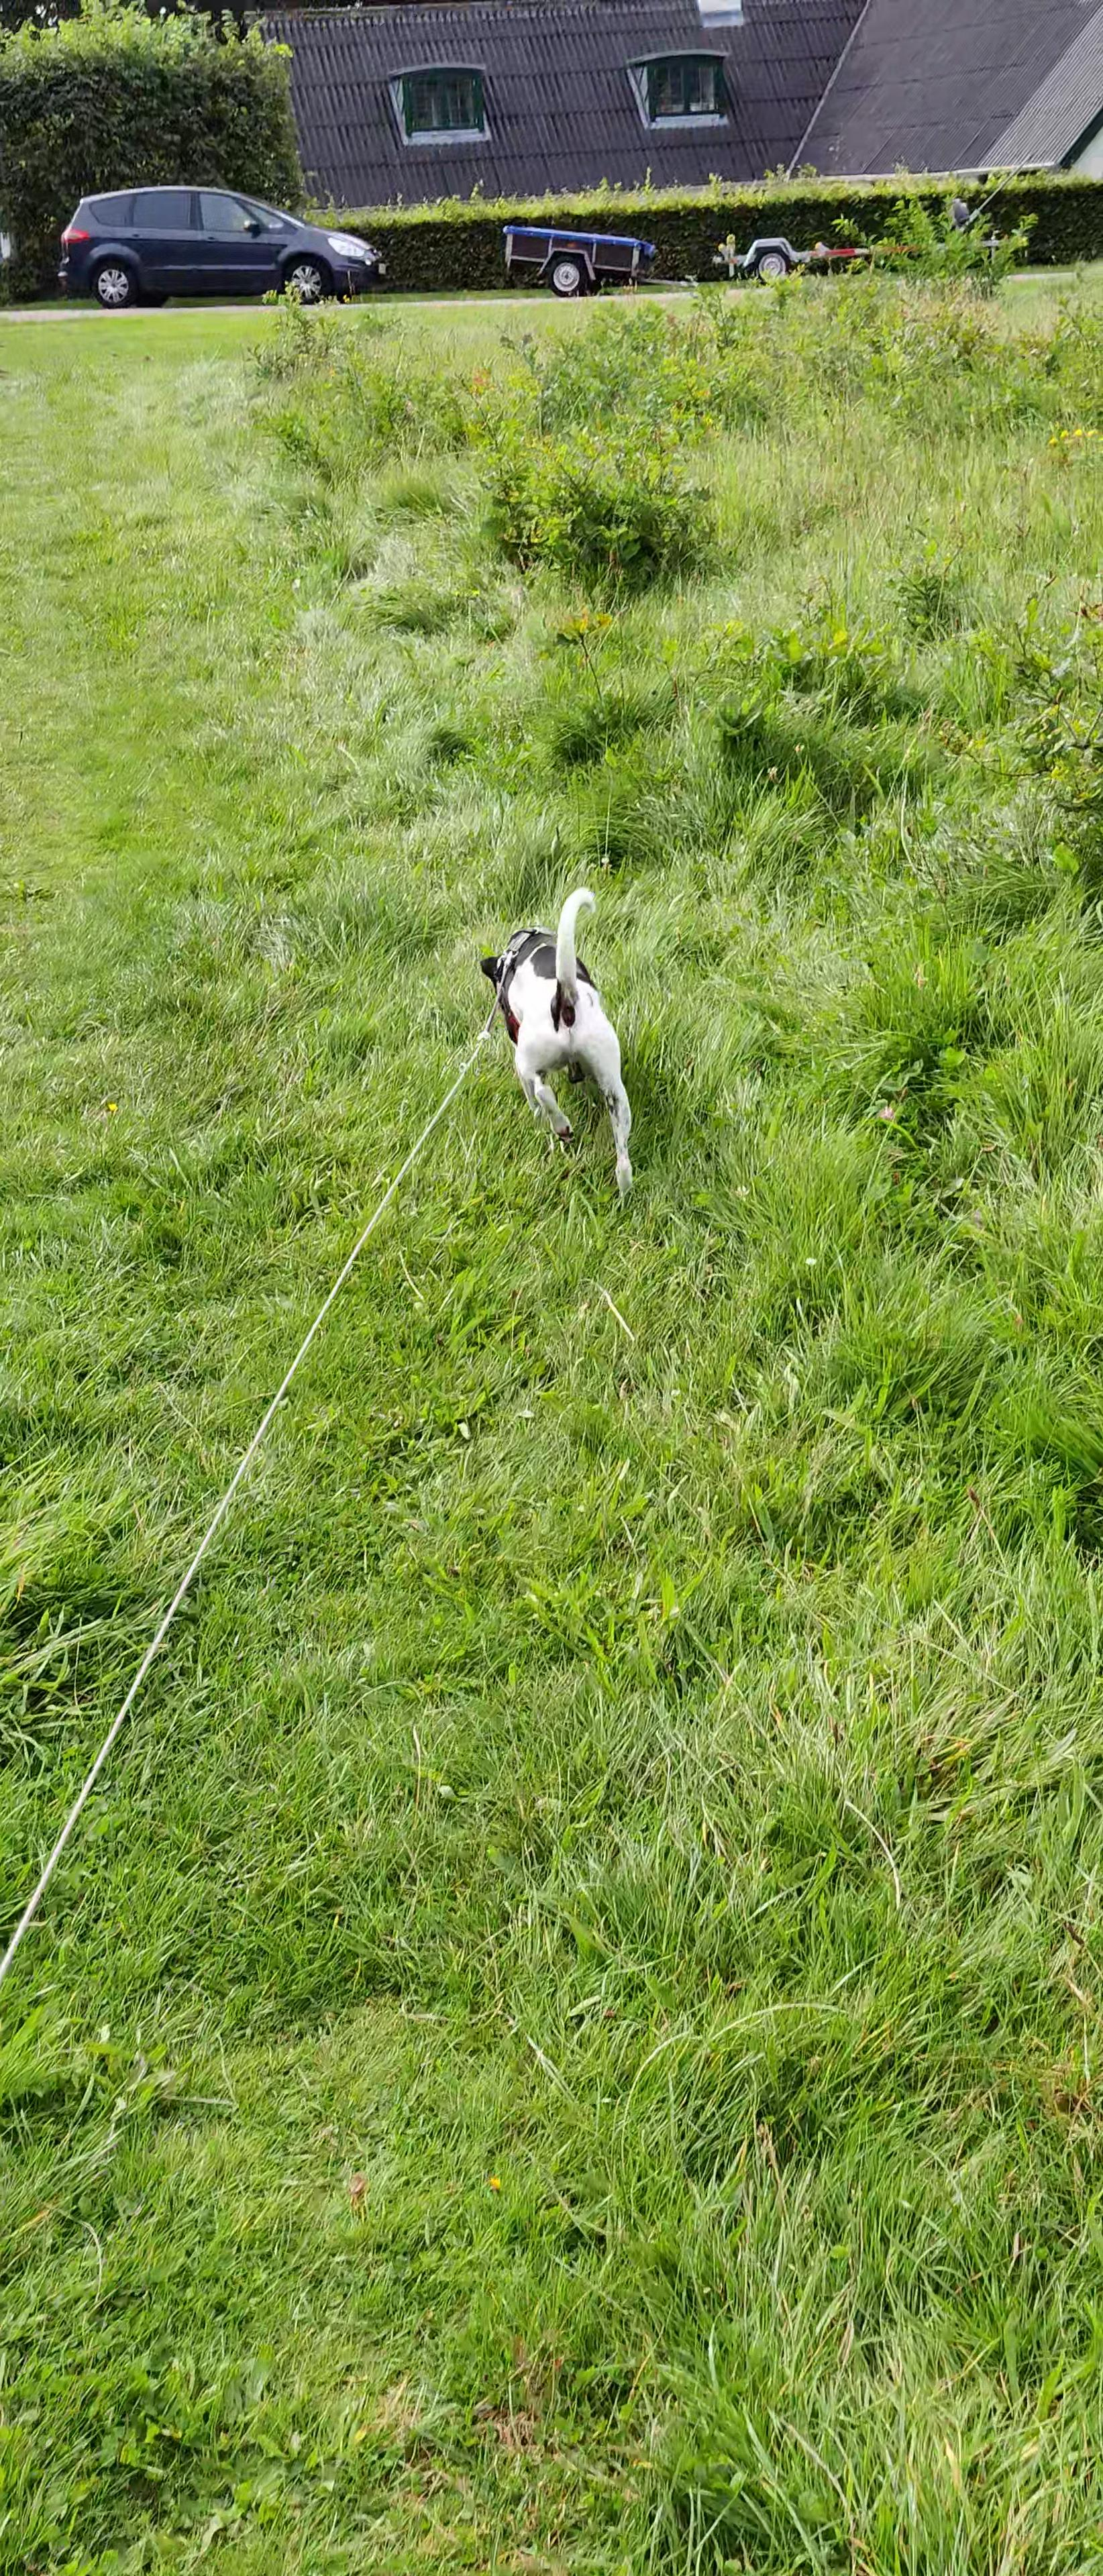Dog: (475, 881, 639, 1204)
